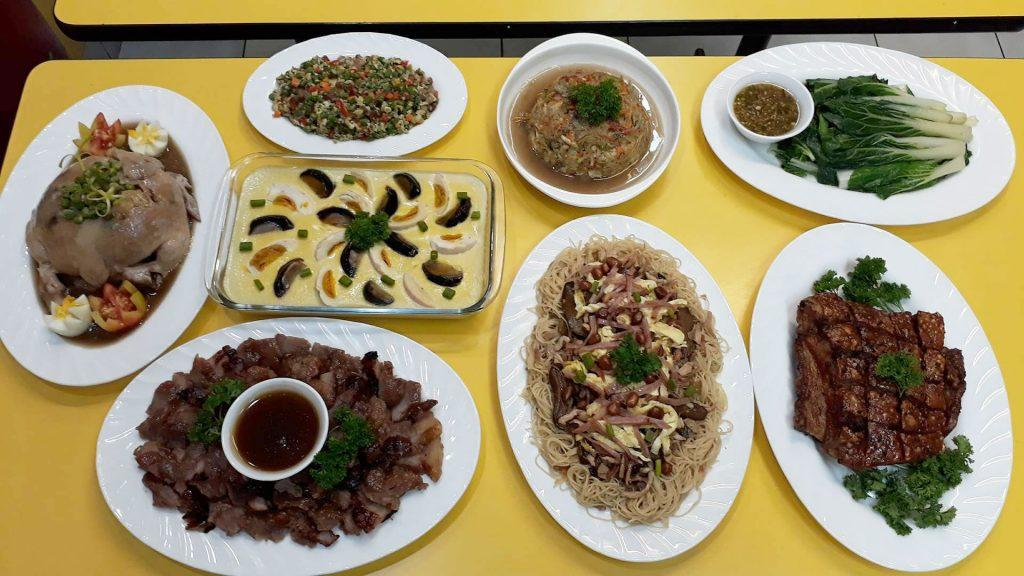Braised Crucian Carp: (97, 318, 471, 576), (747, 219, 1014, 572), (494, 211, 746, 562), (1, 82, 232, 390), (700, 39, 1014, 226), (204, 154, 494, 318), (495, 32, 677, 208), (242, 31, 464, 158)
